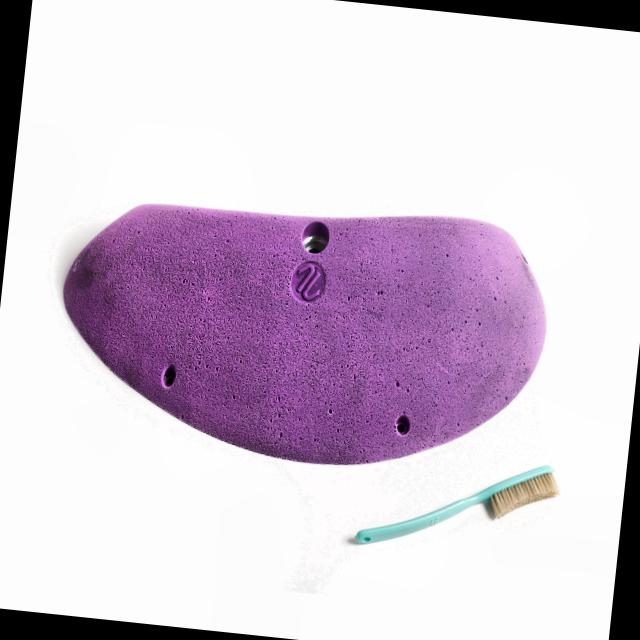Hold: (49, 184, 567, 483)
